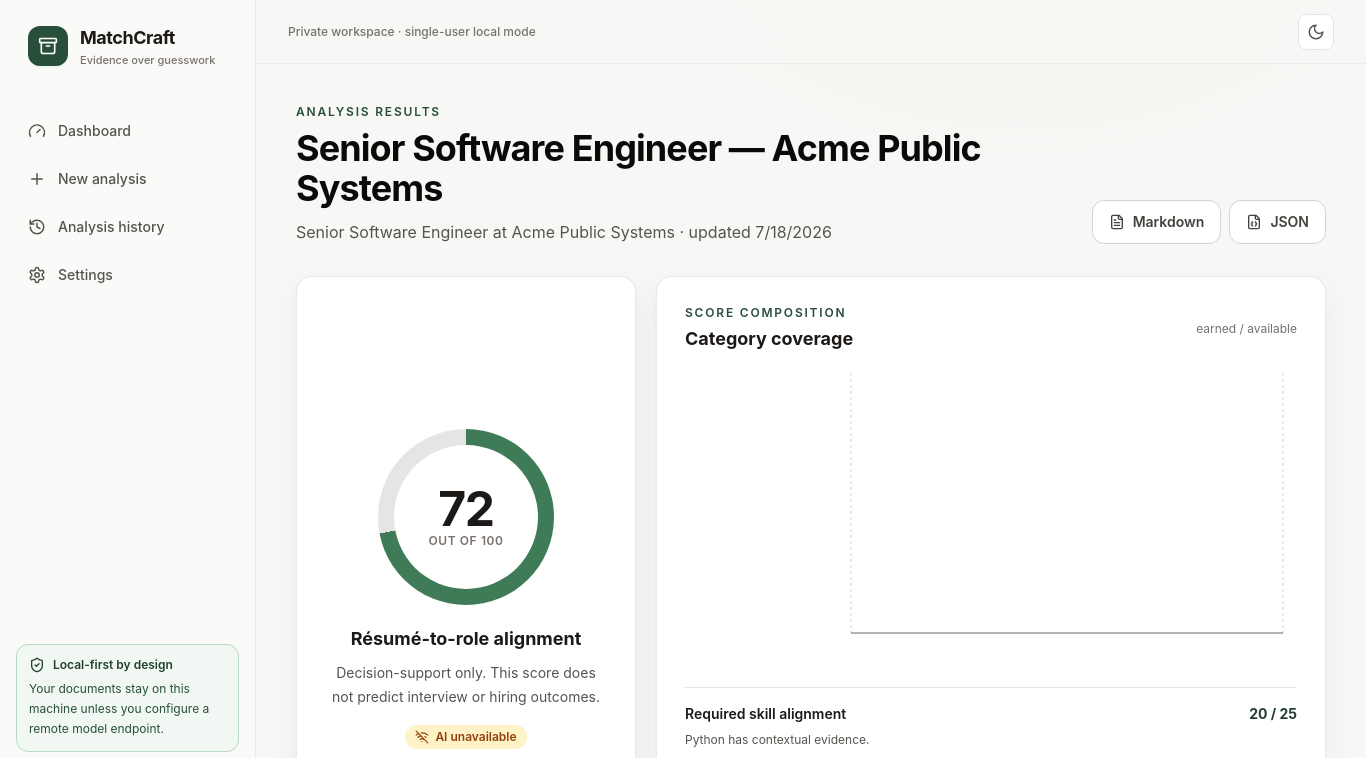
Test: results export failures › shows an error instead of failing silently when an export cannot be downloaded
Expected: the element labelled "72 out of 100" is shown, [378, 428, 554, 604]
Click the button "Markdown" at (1156, 222), box [1092, 200, 1221, 244]
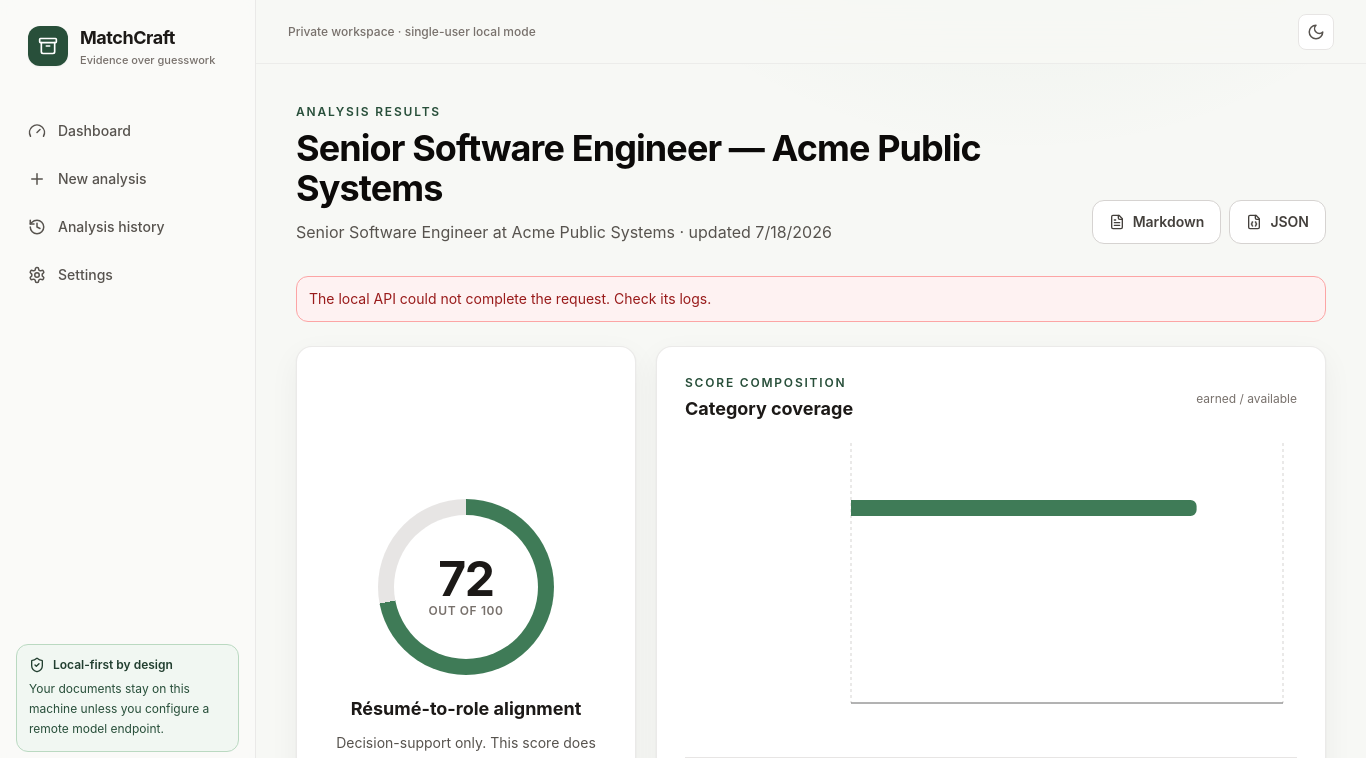
Expected: the message reads "The local API could not complete the request. Check its logs.", [309, 290, 711, 307]
